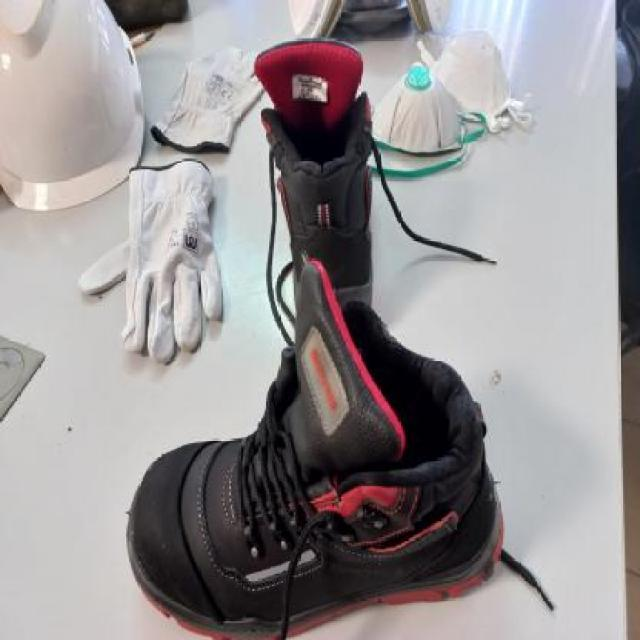boots: (124, 304, 507, 632), (262, 55, 390, 300)
gloves: (80, 150, 226, 356), (148, 43, 266, 139)
helmet: (0, 0, 135, 191)
